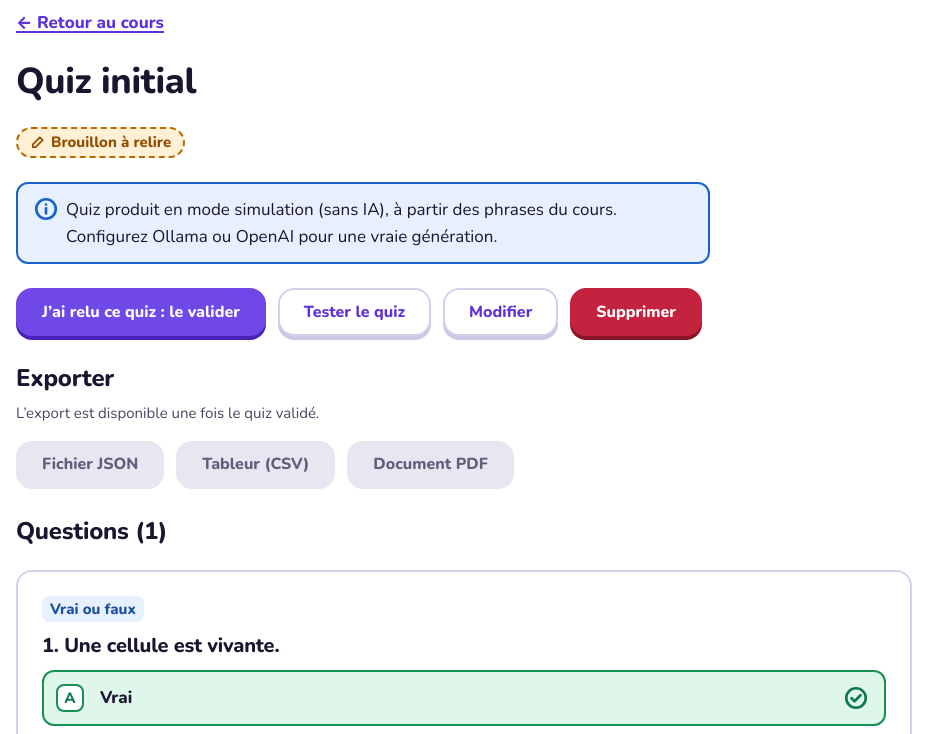
révision du quiz côté navigateur › la validation transmet la version effectivement affichée
This screenshot has width=929, height=734.
Click the button "J’ai relu ce quiz : le valider" at (141, 312), box 16,288 -> 266,336
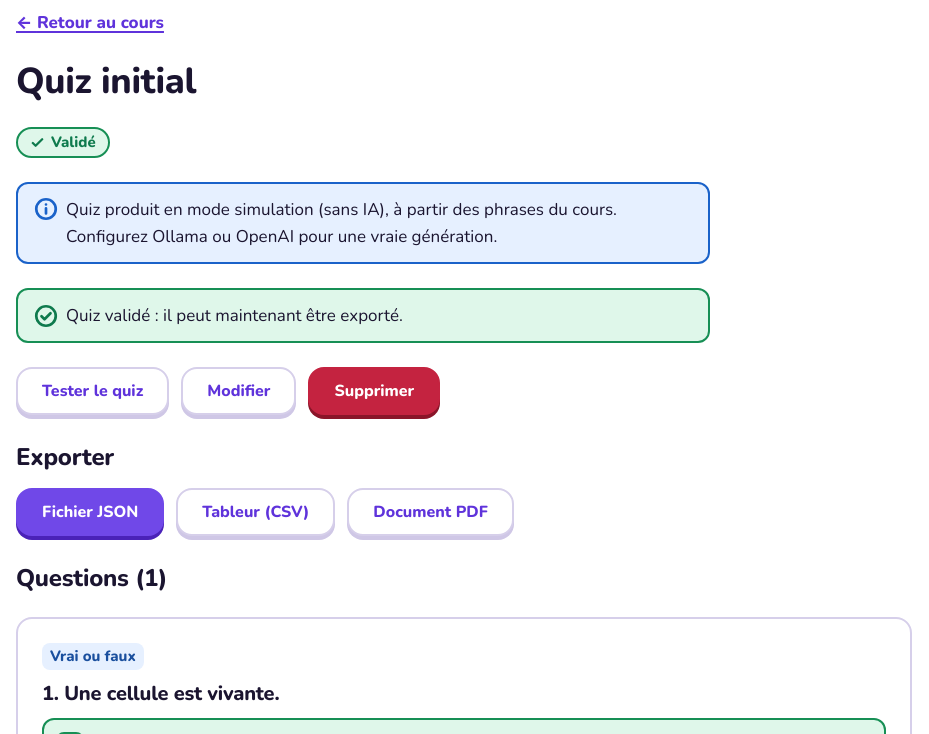
Result: the text "Validé" is shown at 16,127 -> 110,158
